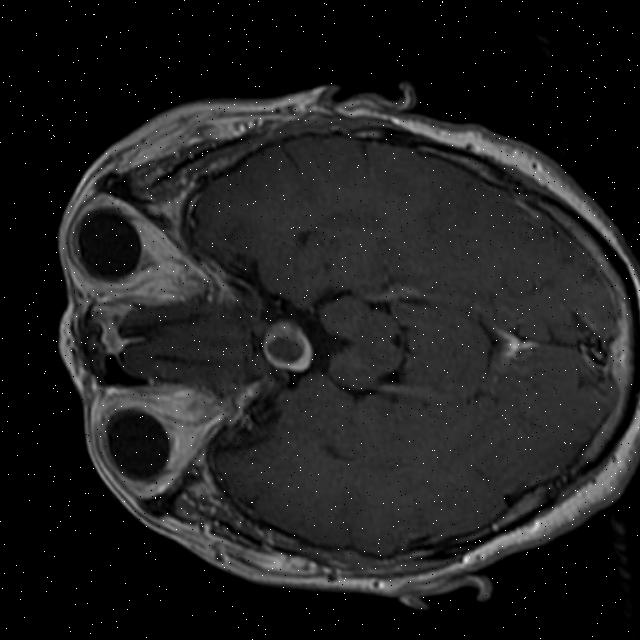Pituitary: (256, 316, 314, 375)
